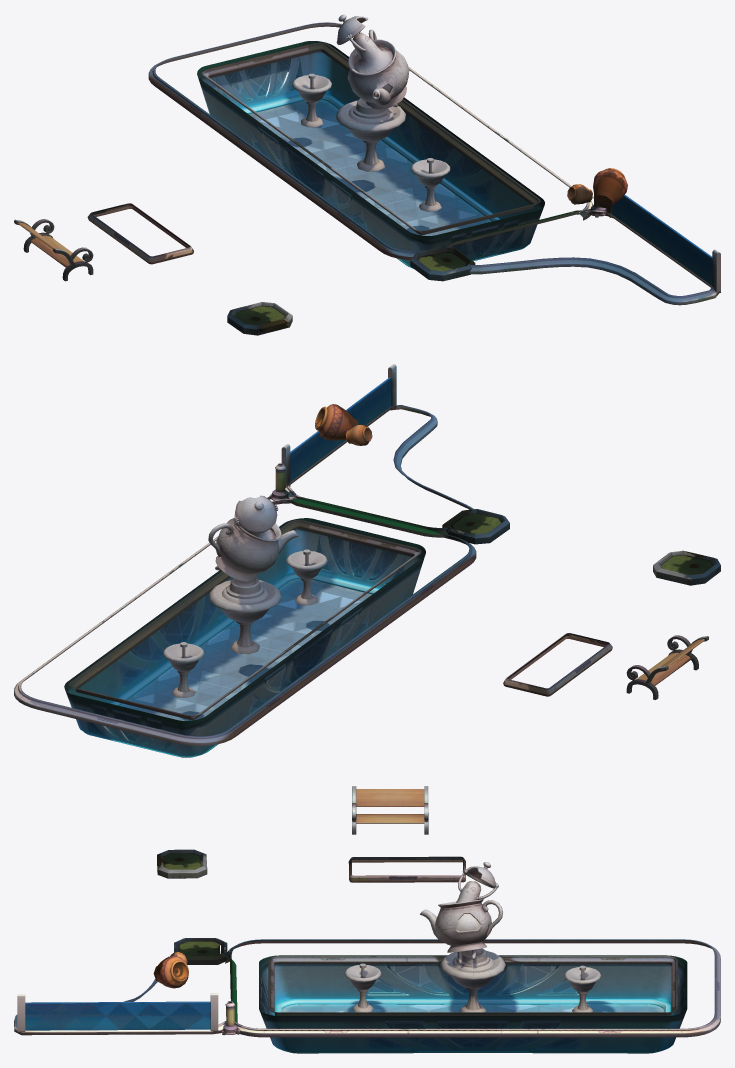
The model's file is pref_sm_garden_props_vray_008_lv2.fbx.
The picture shows the model from 3 angles, top to bottom: view 1: azimuth 30°, elevation 25°; view 2: azimuth 150°, elevation 25°; view 3: azimuth 270°, elevation 25°; orthographic projection. The views are drawn at different scales.
Parts seen in each view (by area): view 1: pref_sm_garden_props_vray_008_lv2; view 2: pref_sm_garden_props_vray_008_lv2; view 3: pref_sm_garden_props_vray_008_lv2.
Boxes of the visible parts, x1=… form: pref_sm_garden_props_vray_008_lv2: x1=14, y1=14, x2=720, y2=335; pref_sm_garden_props_vray_008_lv2: x1=14, y1=364, x2=720, y2=757; pref_sm_garden_props_vray_008_lv2: x1=14, y1=786, x2=720, y2=1053.
Size of the model in its own units: 20.91 by 6.99 by 28.32.
1 material, 1 textured.
